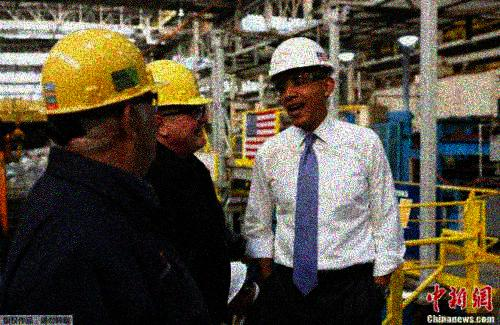helmet: (39, 28, 157, 170), (144, 57, 217, 148), (266, 36, 336, 126)
